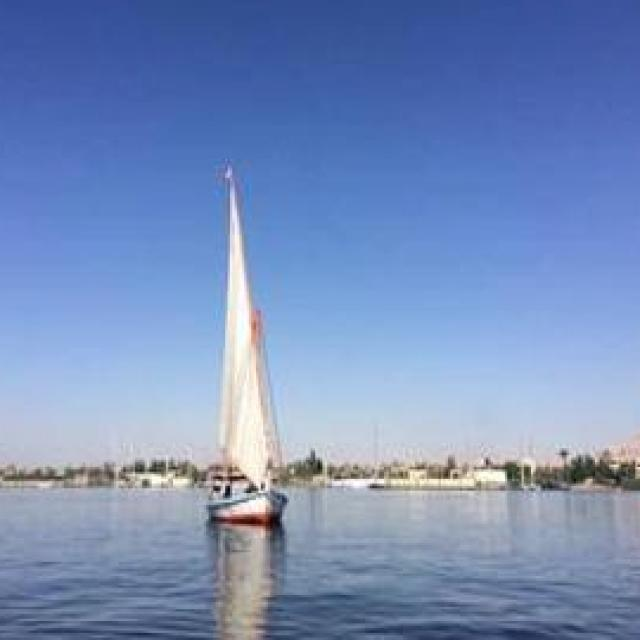sailboat: (190, 163, 300, 525)
